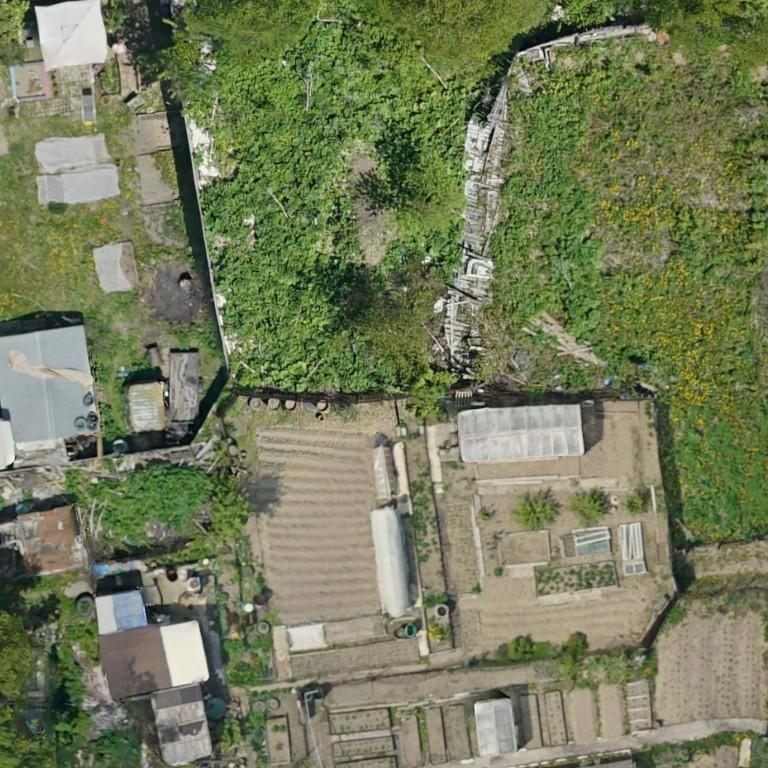hogweed: (201, 96, 367, 387), (490, 91, 603, 333), (85, 463, 207, 537)
